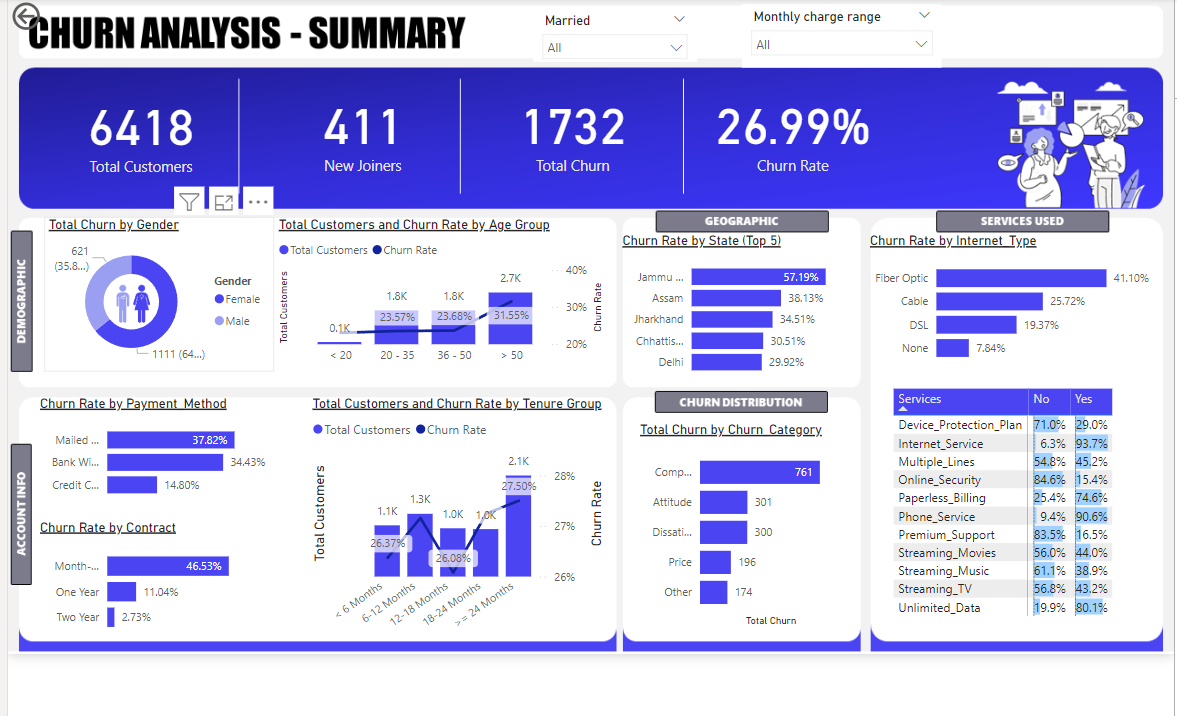

Layout of this report page (visuals, bound fields, positions):
{"tool":"powerbi","page":{"name":"Summary","canvas":[1280,720],"ordinal":0},"visuals":[{"type":"image","box":[89.2,303.3,96.1,63.1],"z":0},{"type":"card","fields":{"Values":["tbl_Measures.Churn Rate"]},"box":[756.1,75.5,211.3,140],"z":1000},{"type":"card","fields":{"Values":["tbl_Measures.New Joiners"]},"box":[292.3,79.6,194.9,130.4],"z":2000},{"type":"card","fields":{"Values":["tbl_Measures.Total Churn"]},"box":[522.8,72.7,194.9,144.1],"z":3000},{"type":"card","fields":{"Values":["tbl_Measures.Total Customers"]},"box":[49.4,79.6,193.5,133.1],"z":4000},{"type":"donutChart","fields":{"Category":["prod_Churn.Gender"],"Y":["tbl_Measures.Total Churn"]},"box":[39.8,240.1,252.5,170.2],"z":5000},{"type":"lineStackedColumnComboChart","fields":{"Category":["mapping_AgeGrp.Age Group"],"Y":["tbl_Measures.Total Customers"],"Y2":["tbl_Measures.Churn Rate"]},"box":[292.3,240.1,366.4,170.2],"z":6000},{"type":"clusteredBarChart","fields":{"Category":["prod_Churn.Payment_Method"],"Y":["tbl_Measures.Churn Rate"]},"box":[30.2,436.4,262.1,123.5],"z":7000},{"type":"clusteredBarChart","fields":{"Category":["prod_Churn.Contract"],"Y":["tbl_Measures.Churn Rate"]},"box":[30.2,572.2,262.1,135.8],"z":8000},{"type":"lineStackedColumnComboChart","fields":{"Category":["mapping_TenureGrp.Tenure Group"],"Y":["tbl_Measures.Total Customers"],"Y2":["tbl_Measures.Churn Rate"]},"box":[329.3,436.4,329.3,271.7],"z":9000},{"type":"clusteredBarChart","title":"Churn Rate by State (Top 5)","fields":{"Category":["prod_Churn.State"],"Y":["tbl_Measures.Churn Rate"]},"box":[669.6,258,271.7,166],"z":10000},{"type":"clusteredBarChart","fields":{"Category":["prod_Churn.Churn_Category"],"Y":["tbl_Measures.Total Churn"]},"box":[688.9,465.2,231.9,229.2],"z":11000},{"type":"actionButton","box":[0,0,100,40],"z":12000},{"type":"clusteredBarChart","fields":{"Category":["prod_Churn.Internet_Type"],"Y":["tbl_Measures.Churn Rate"]},"box":[941.3,258,322.5,152.3],"z":13000},{"type":"pivotTable","title":"Churn by Services","fields":{"Rows":["prod_Services.Services"],"Columns":["prod_Services.Status"],"Values":["Sum(prod_Services.Churn Status)"]},"box":[967.4,424,296.4,270.3],"z":14000},{"type":"slicer","title":"Churn by Services","fields":{"Values":["prod_Churn.Monthly charge status"]},"box":[805.5,6.9,219.6,70],"z":15000},{"type":"slicer","fields":{"Values":["prod_Churn.Married"]},"box":[576.3,11,179.8,59],"z":16000}]}

Visuals, with their boxes on the page's 1280x720 design canvas (x1, y1, x2, y2). These are canvas units, not pixel positions in the 1177x716 screenshot, which may show the page scaled, cropped or inside an application window:
image: detection(89, 303, 185, 366)
card - tbl_Measures.Churn Rate: detection(756, 76, 967, 216)
card - tbl_Measures.New Joiners: detection(292, 80, 487, 210)
card - tbl_Measures.Total Churn: detection(523, 73, 718, 217)
card - tbl_Measures.Total Customers: detection(49, 80, 243, 213)
donutChart - prod_Churn.Gender x tbl_Measures.Total Churn: detection(40, 240, 292, 410)
lineStackedColumnComboChart - mapping_AgeGrp.Age Group x tbl_Measures.Total Customers: detection(292, 240, 659, 410)
clusteredBarChart - prod_Churn.Payment_Method x tbl_Measures.Churn Rate: detection(30, 436, 292, 560)
clusteredBarChart - prod_Churn.Contract x tbl_Measures.Churn Rate: detection(30, 572, 292, 708)
lineStackedColumnComboChart - mapping_TenureGrp.Tenure Group x tbl_Measures.Total Customers: detection(329, 436, 659, 708)
"Churn Rate by State (Top 5)" clusteredBarChart: detection(670, 258, 941, 424)
clusteredBarChart - prod_Churn.Churn_Category x tbl_Measures.Total Churn: detection(689, 465, 921, 694)
actionButton: detection(0, 0, 100, 40)
clusteredBarChart - prod_Churn.Internet_Type x tbl_Measures.Churn Rate: detection(941, 258, 1264, 410)
"Churn by Services" pivotTable: detection(967, 424, 1264, 694)
"Churn by Services" slicer: detection(806, 7, 1025, 77)
slicer - prod_Churn.Married: detection(576, 11, 756, 70)
